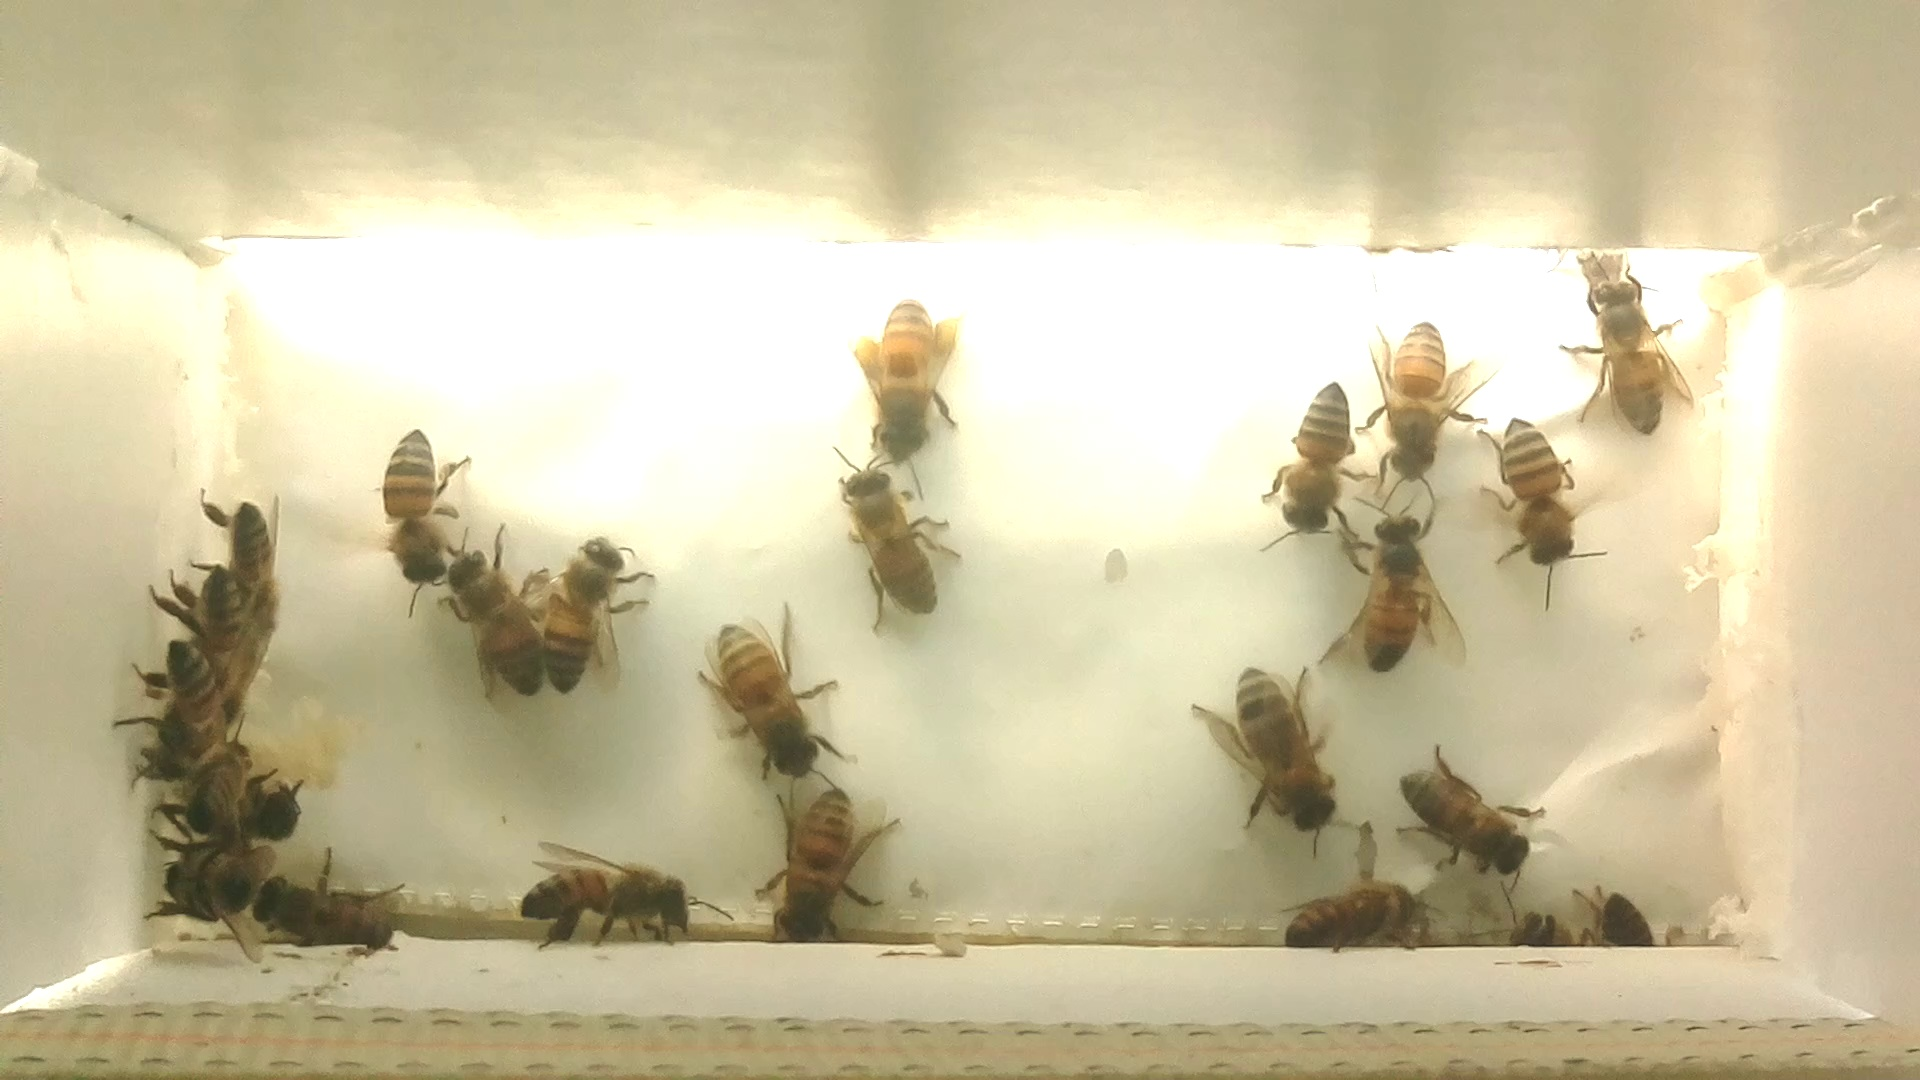bee: (684, 588, 873, 800), (1193, 645, 1373, 860), (733, 770, 928, 956), (1315, 473, 1474, 696), (810, 440, 985, 640), (1468, 393, 1623, 607), (506, 825, 731, 960), (1379, 738, 1567, 895), (345, 407, 487, 609), (845, 284, 976, 501), (521, 520, 663, 715), (1354, 301, 1486, 510), (1553, 262, 1691, 452), (425, 518, 554, 717), (248, 848, 415, 971), (1265, 371, 1369, 558), (1255, 860, 1441, 961), (191, 488, 305, 654), (128, 825, 280, 949), (152, 553, 272, 708), (125, 720, 262, 843), (120, 632, 237, 761), (1584, 880, 1673, 960)
